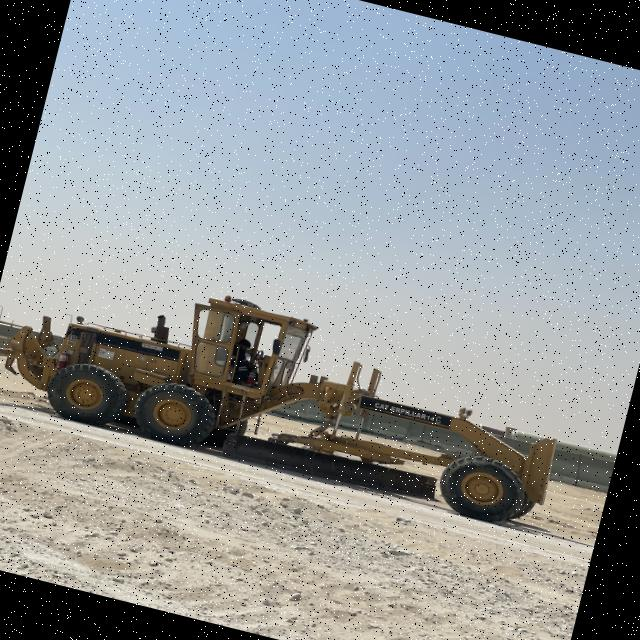Grader: (0, 237, 576, 537)
